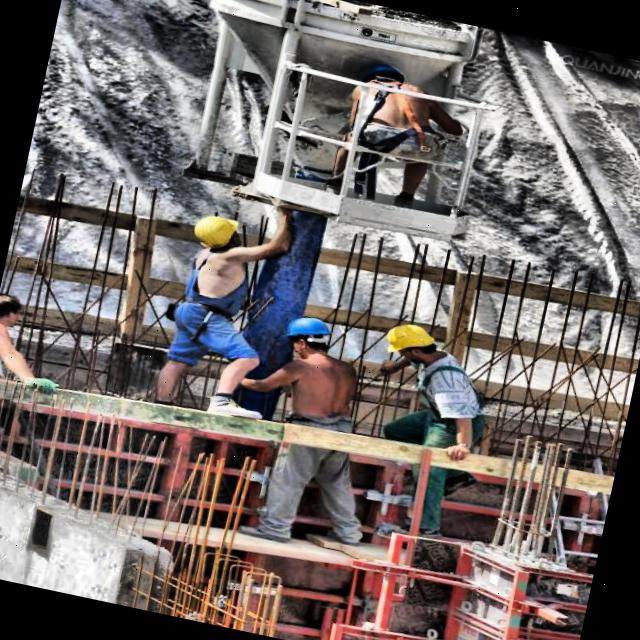helmet: (347, 49, 413, 112), (374, 316, 444, 372), (276, 312, 336, 368), (187, 209, 250, 260)
